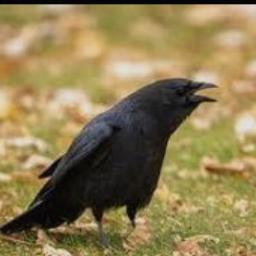Crow: (0, 77, 218, 249)
